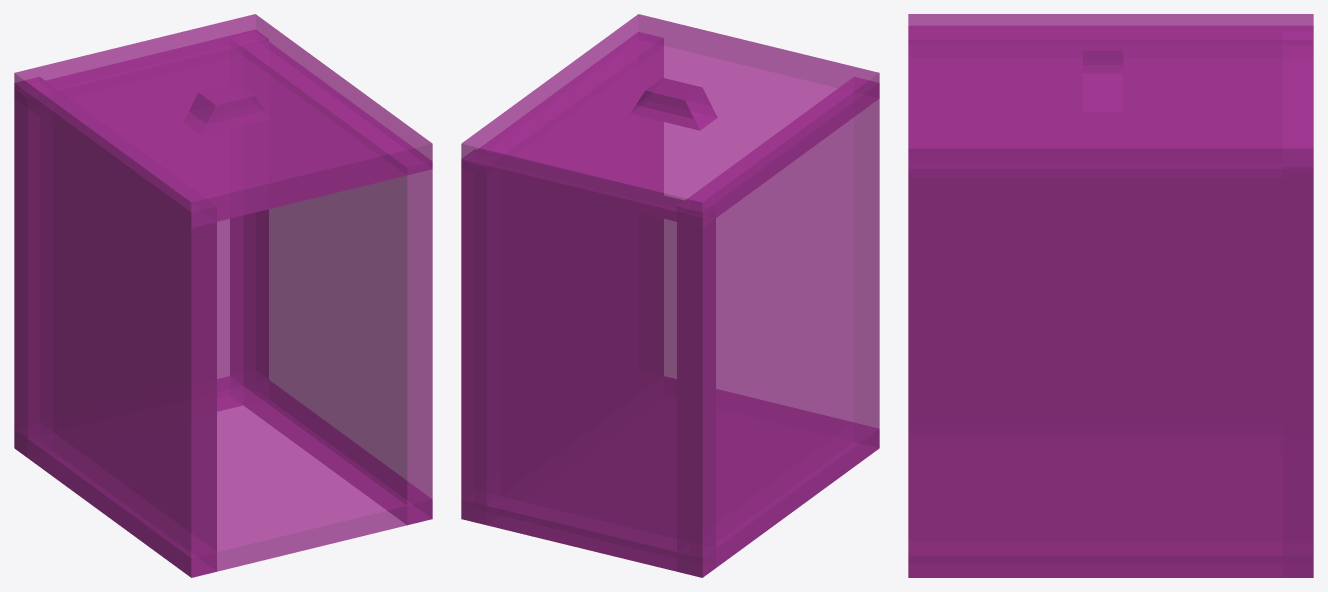
Rendered from SM_Prop_Cage_01_Collision.fbx.
3 views of the same model, side by side, from view 1: azimuth 30°, elevation 25°; view 2: azimuth 150°, elevation 25°; view 3: azimuth 270°, elevation 25° (orthographic). The views are drawn at different scales.
Parts seen in each view (by area): view 1: SM_Prop_Cage_01_Collision; view 2: SM_Prop_Cage_01_Collision; view 3: SM_Prop_Cage_01_Collision.
Part boxes in pixels (box(x1,y1,x2,y2)): SM_Prop_Cage_01_Collision: box(14, 14, 432, 577); SM_Prop_Cage_01_Collision: box(461, 14, 879, 577); SM_Prop_Cage_01_Collision: box(908, 14, 1313, 577).
Bounding box in the file's own units: 145 × 225 × 184.
